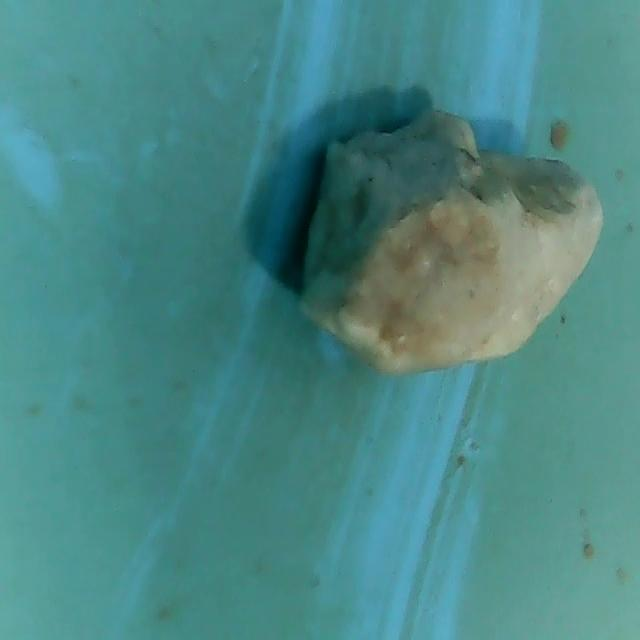rock: (290, 94, 608, 388)
